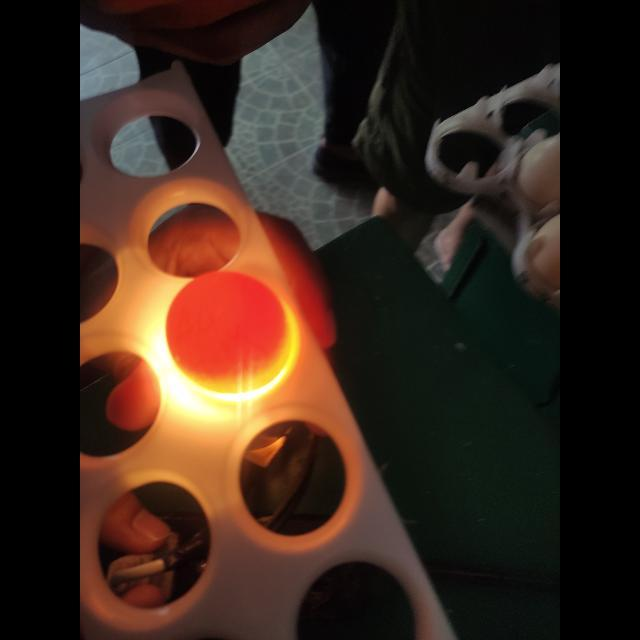Infertile: (169, 270, 299, 392)
